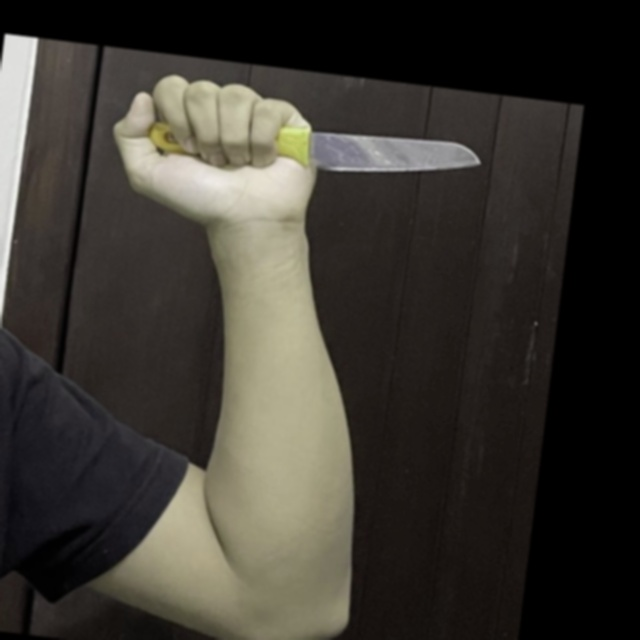Sharp-Object: (141, 101, 485, 195)
